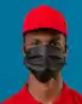with_facemask: (26, 47, 71, 85)
